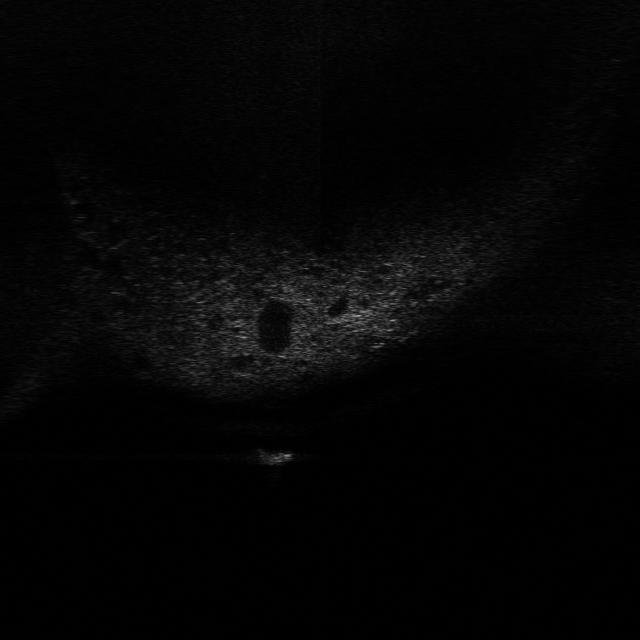cube: (256, 437, 298, 468)
